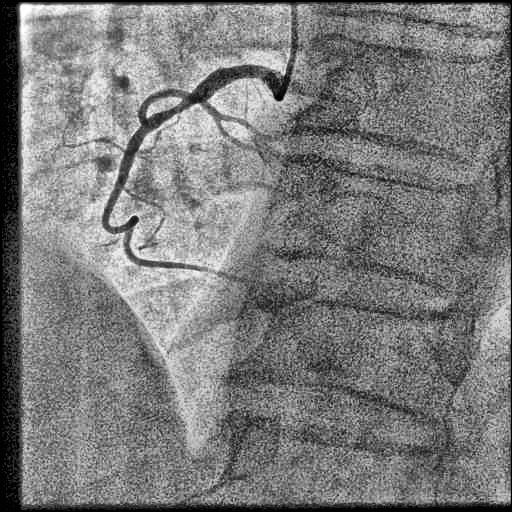rca: (102, 64, 280, 285)
